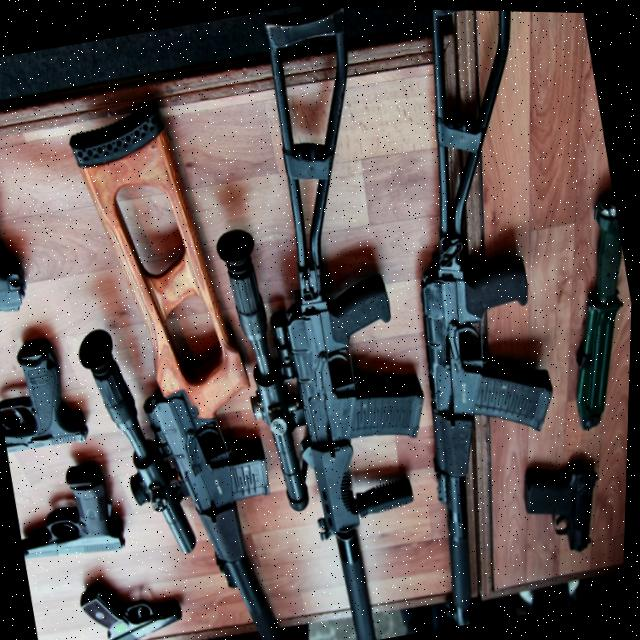firearm: (167, 3, 477, 640), (330, 6, 630, 628), (28, 91, 313, 640)
knife: (536, 187, 636, 430)
pistol: (11, 459, 132, 565), (0, 328, 96, 456), (517, 449, 615, 557), (79, 566, 190, 640), (0, 161, 36, 315)
